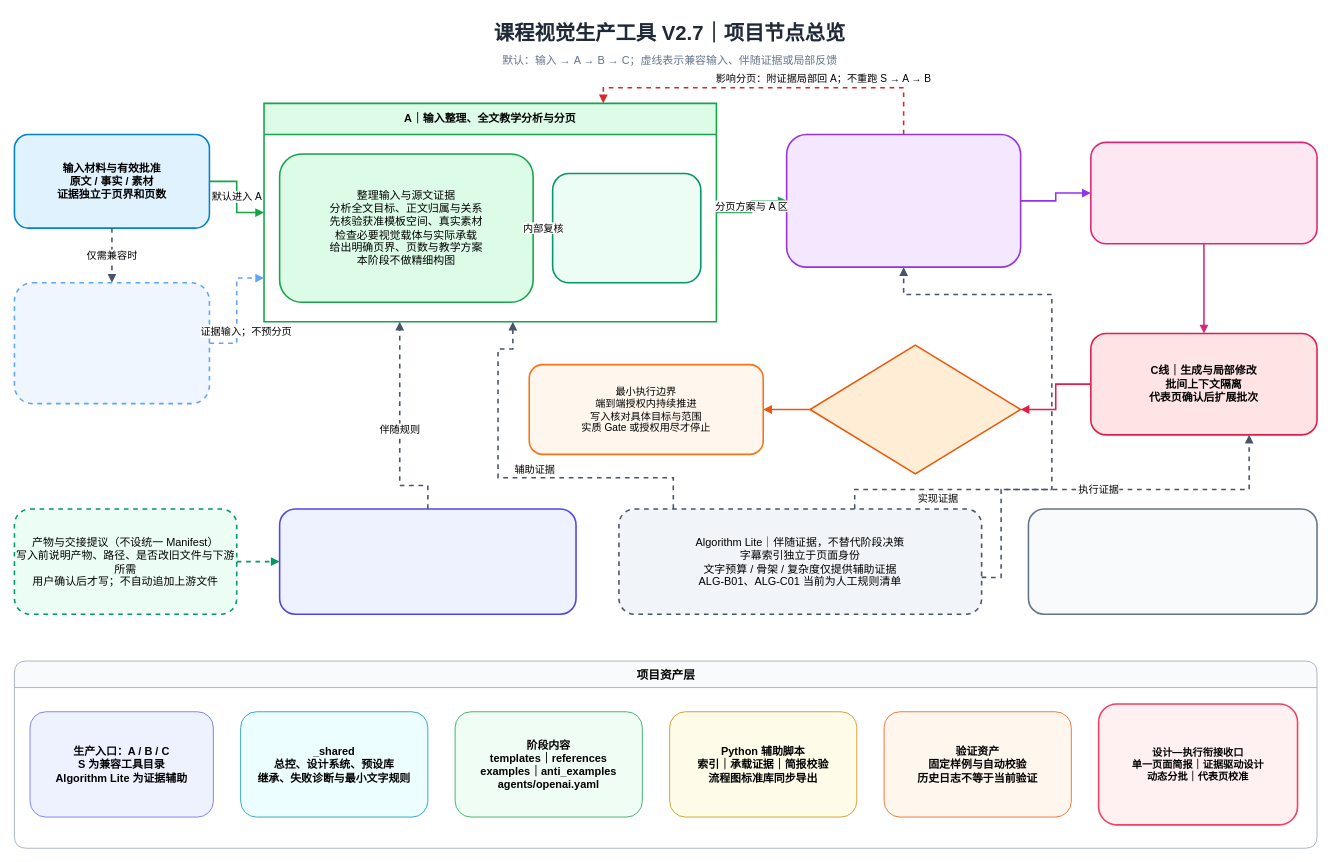
Some shapes in this 1331 by 862 pixel diagram are drawn without their labels. Each missing label, with the centre of its shape:
A 内部复核 检查证据、承载与分页 不通过在 A 内修正 不是独立阶段或停止点: (626,227)
B｜具体视觉设计与生产组织 唯一主方案、真实资产与实现反馈 纯实现问题由 B 解决 动态分批；每批指定典型代表页: (903,200)
C线｜执行适配器 校验简报 / 素材 / 参数 编译提示但不新增设计: (1203,192)
S｜非默认兼容输入工具 仅处理字幕索引或既有 S 产物 不创建提前 page_id 不决定页界、页数或教学关系: (111,343)
共享最小规则 course-visual-production-v2.7.md 内容先证据；有效批准复用 用户 Gate 只处理真实未决授权: (427,561)
用户确认 Gate 先排除已批准与内部核对事项 只问会改变下一动作的决定 一次一个实质问题: (915,409)
跨阶段最小规则 版式六类检查｜用户最终决策 不自动追加上游｜哈希方案绝对禁止: (1172,561)
